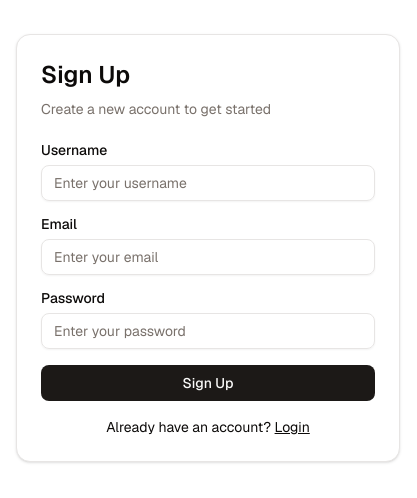
Scenario: Register Page › should validate email format
The image size is (417, 498).
Fill all fields with valid data except email
In the field labelled "Username": point(208, 183) [41,165,375,201], type "testuser"
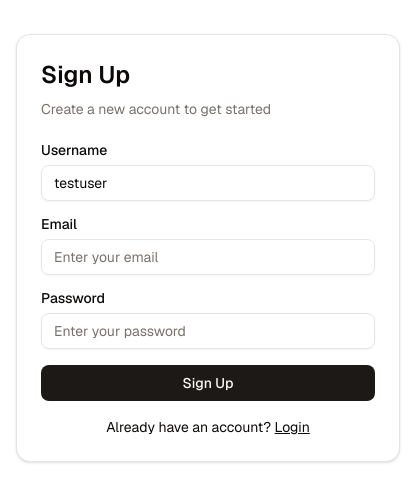
In the password field labelled "Password": point(208, 331) [41,313,375,349], type "Pass@123"
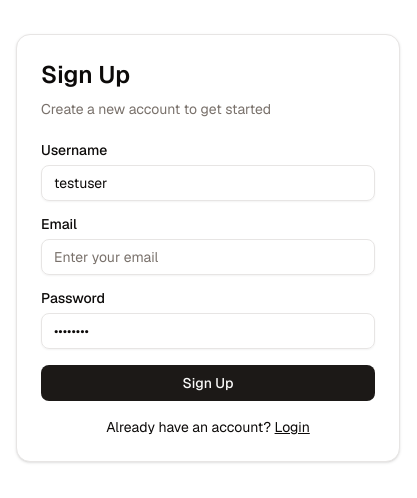
In the field labelled "Email": point(208, 257) [41,239,375,275], type "invalid-email"
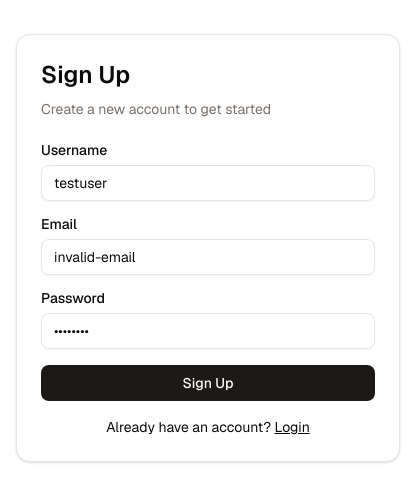
Click the button "Sign Up": point(208, 383) [41,365,375,401]
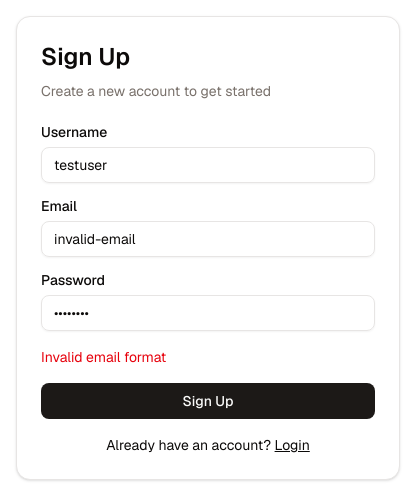
Result: the text "Invalid email format" is shown at [41,348,166,366]
